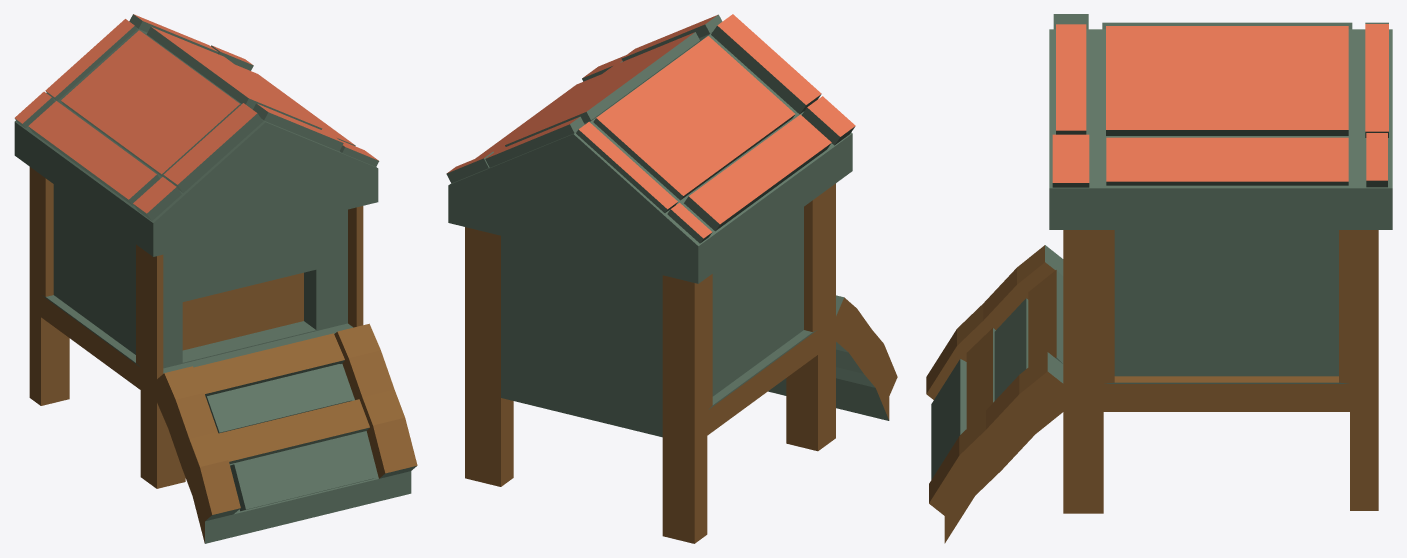
Rendered from smallhouse.fbx.
3 renders of one model, left to right at view 1: azimuth 30°, elevation 25°; view 2: azimuth 150°, elevation 25°; view 3: azimuth 270°, elevation 25°, orthographic. The views are drawn at different scales.
Visible parts, largest first — view 1: Cube; view 2: Cube; view 3: Cube.
Part boxes in pixels (bbox=[...]): Cube: bbox=[14, 14, 417, 543]; Cube: bbox=[446, 14, 897, 543]; Cube: bbox=[926, 14, 1392, 543].
Size of the model in its own units: 345 by 530 by 483.
